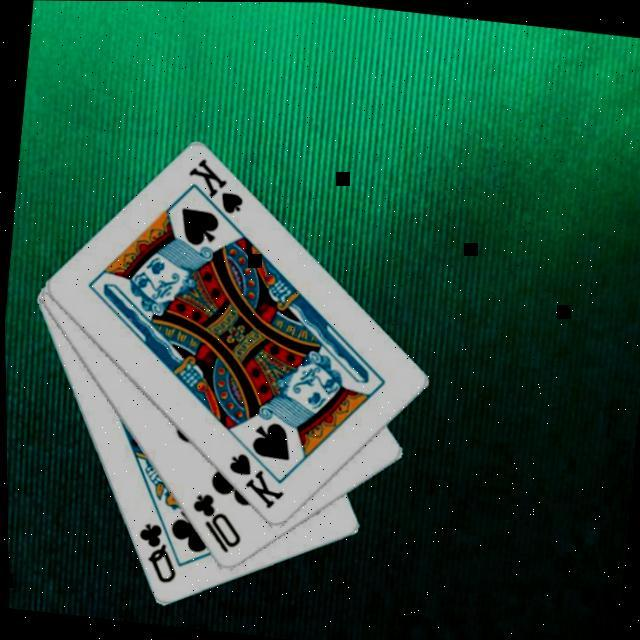10C: (183, 486, 247, 556)
KS: (179, 152, 250, 228), (220, 446, 290, 512)
QC: (128, 516, 184, 586)
